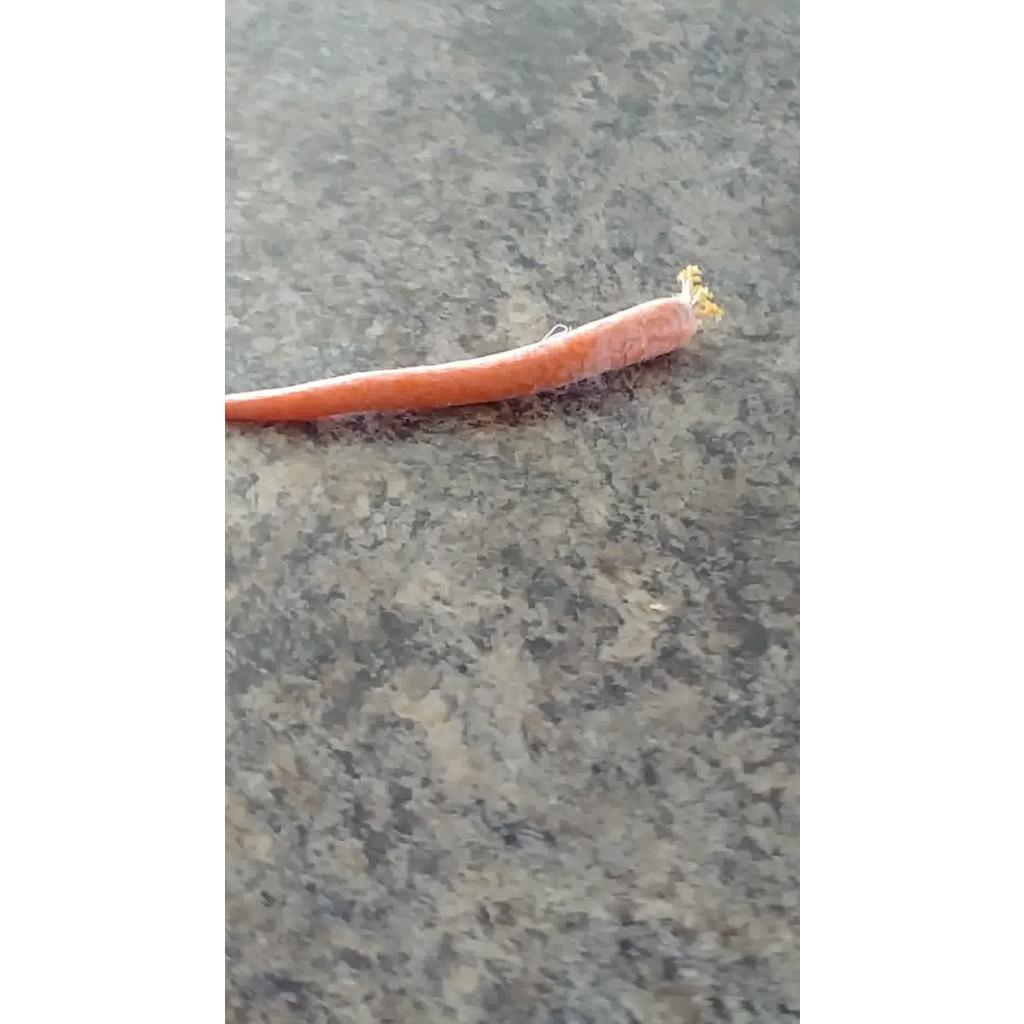carrot: (224, 266, 722, 422)
